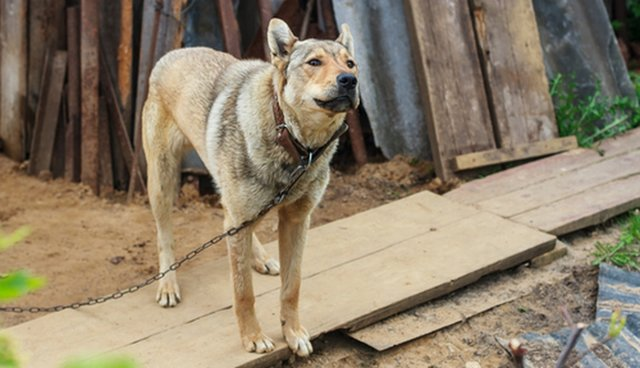dog: (126, 18, 373, 356)
